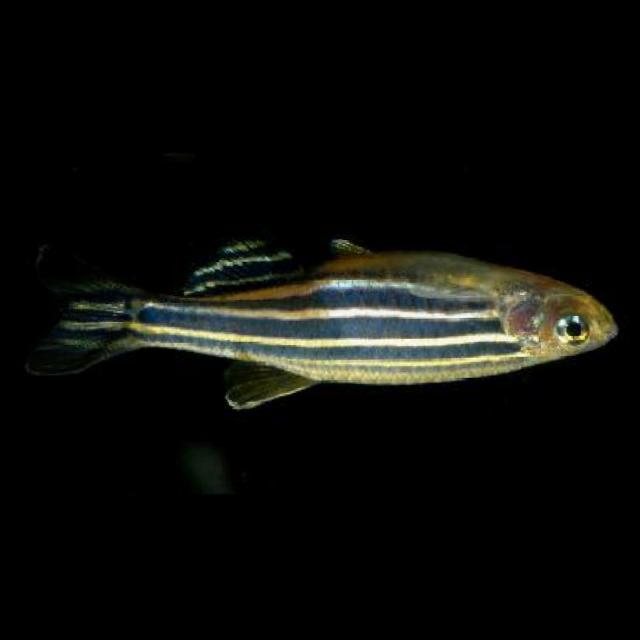ZebraFish: (25, 228, 620, 415)
